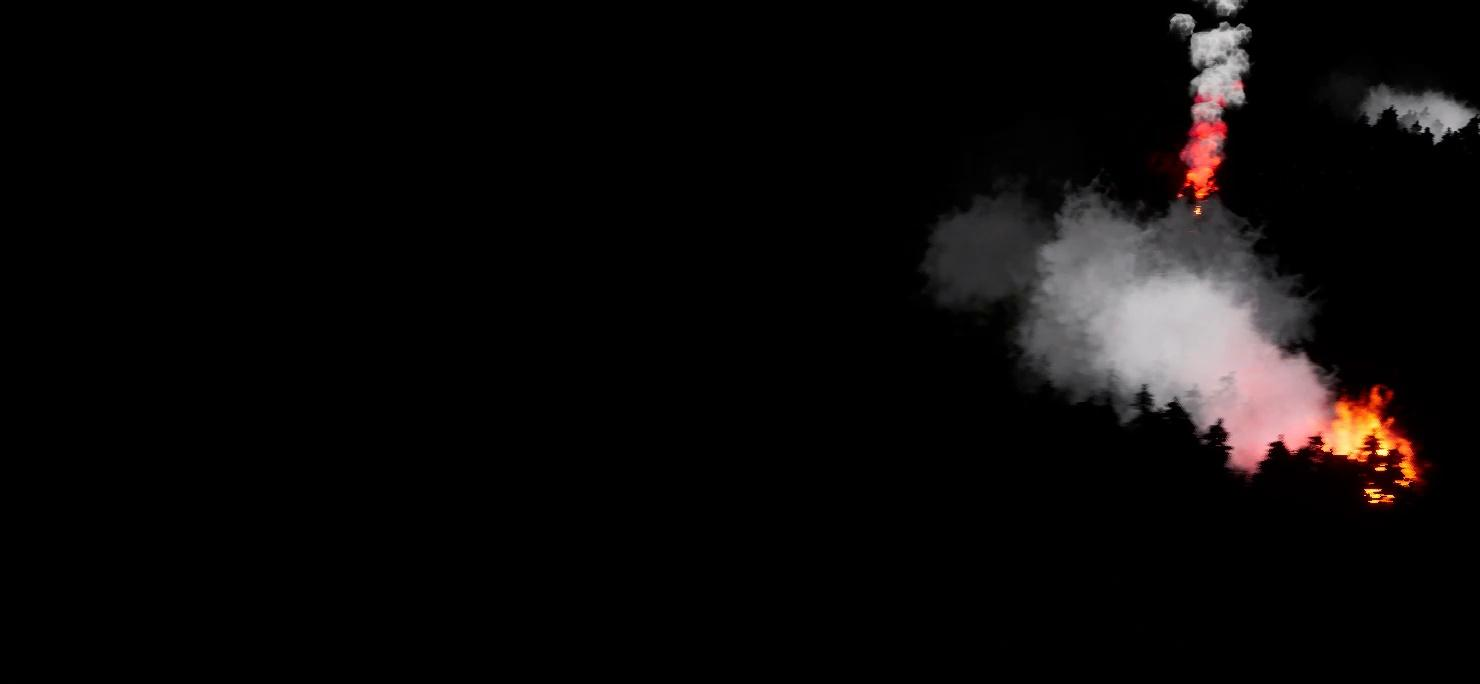fire: (1312, 383, 1419, 511), (1183, 104, 1235, 199)
smoke: (930, 186, 1327, 465), (1171, 0, 1248, 109), (1353, 75, 1476, 142)
